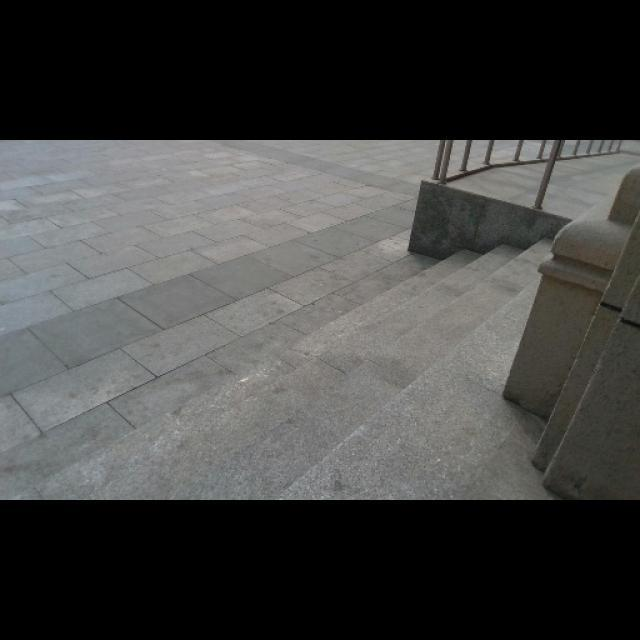stair: (134, 240, 516, 482)
